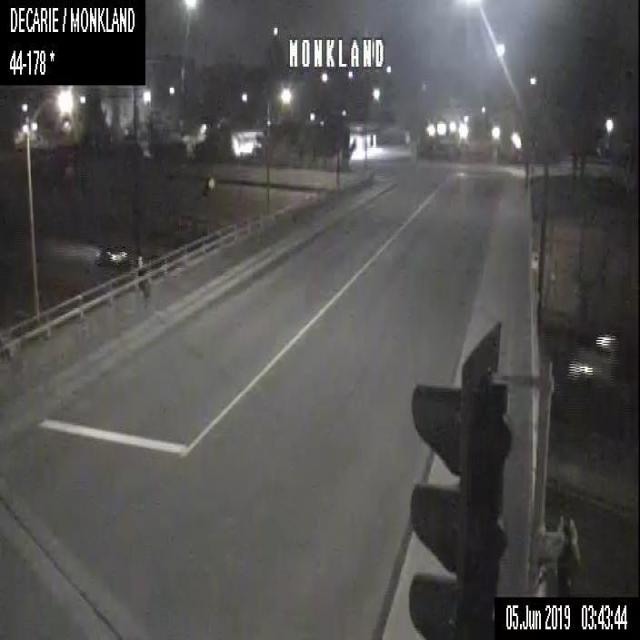vehicle: (564, 357, 598, 384), (96, 245, 130, 264), (595, 328, 620, 352)
